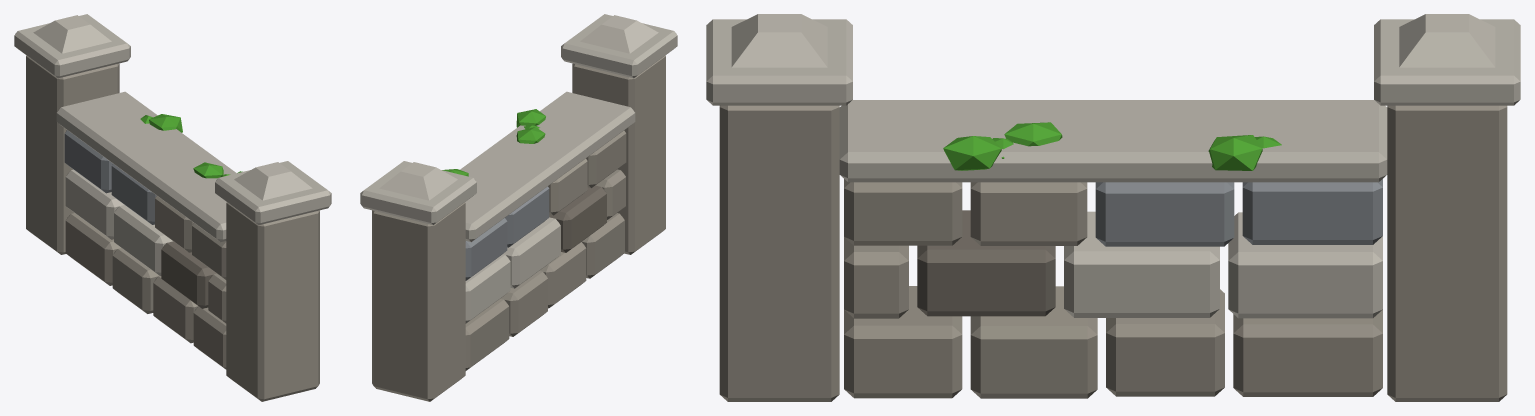
The model's file is fence_rail_stone.glb.
3 renders of one model, left to right at view 1: azimuth 30°, elevation 25°; view 2: azimuth 150°, elevation 25°; view 3: azimuth 270°, elevation 25°, orthographic. The views are drawn at different scales.
Visible parts, largest first — view 1: fence_rail_stone; view 2: fence_rail_stone; view 3: fence_rail_stone.
Part boxes in pixels (x1=…): fence_rail_stone: x1=14, y1=14, x2=331, y2=401; fence_rail_stone: x1=360, y1=14, x2=677, y2=401; fence_rail_stone: x1=706, y1=14, x2=1520, y2=401.
Bounding box in the file's own units: 0.4724 × 1.18 × 2.44.
